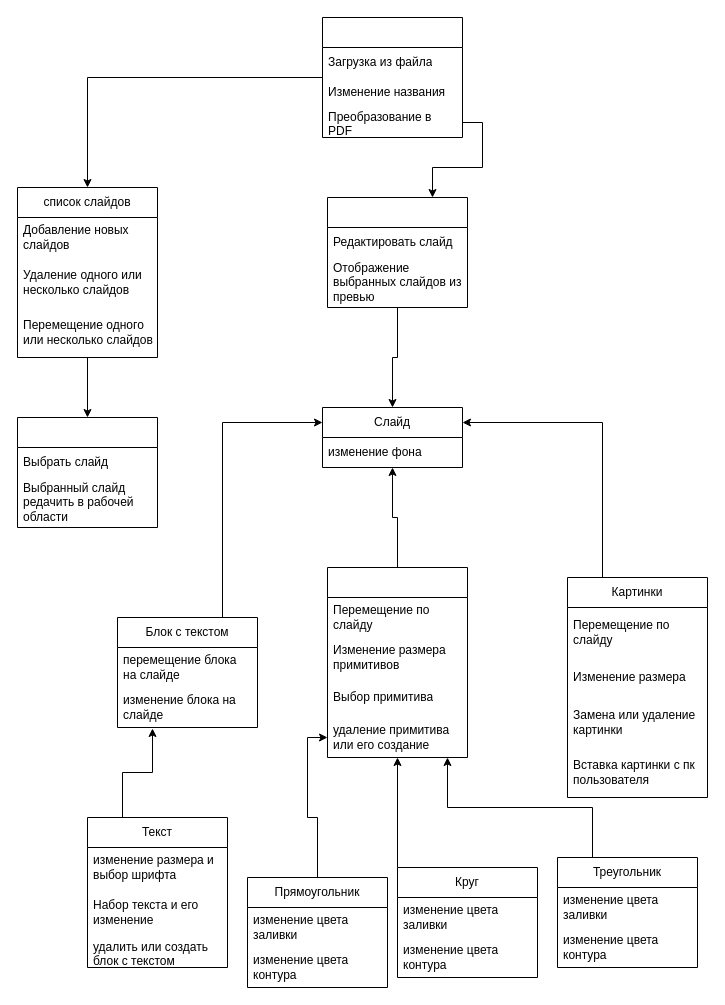
This 725x1005 diagram has some shape labels left out. The box of each missing label's shape, as (x1, y1, x2, y2) in pixels:
Превью: (16, 416, 158, 528)
Презентация: (322, 16, 462, 138)
Примитивы: (326, 566, 468, 758)
Рабочая область: (326, 196, 468, 308)
